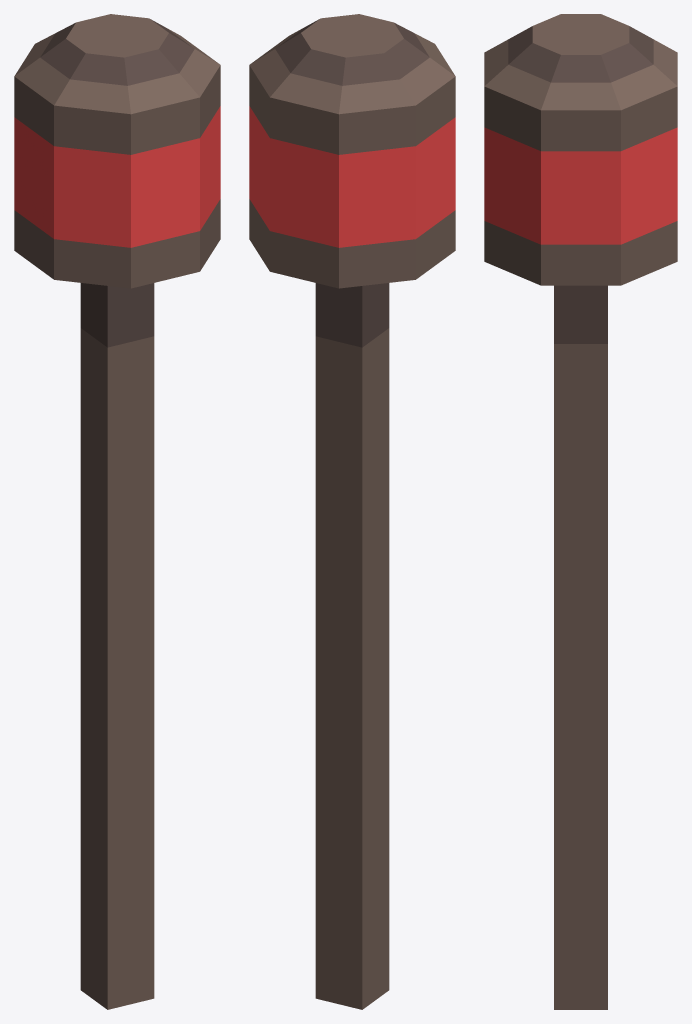
Rendered from lantern1.fbx.
3 renders of one model, left to right at view 1: azimuth 30°, elevation 25°; view 2: azimuth 150°, elevation 25°; view 3: azimuth 270°, elevation 25°, orthographic.
Visible parts, largest first — view 1: pole, lantern; view 2: pole, lantern; view 3: lantern, pole.
Boxes of the visible parts, x1,y1,x2,y2 form: pole: (80, 283, 154, 1009); lantern: (14, 14, 220, 288); pole: (315, 283, 389, 1009); lantern: (249, 14, 455, 288); lantern: (484, 14, 677, 285); pole: (554, 285, 607, 1009).
Size of the model in its own units: 15.62 by 85.94 by 15.62.
Materials: 2 (2 with a texture image).
